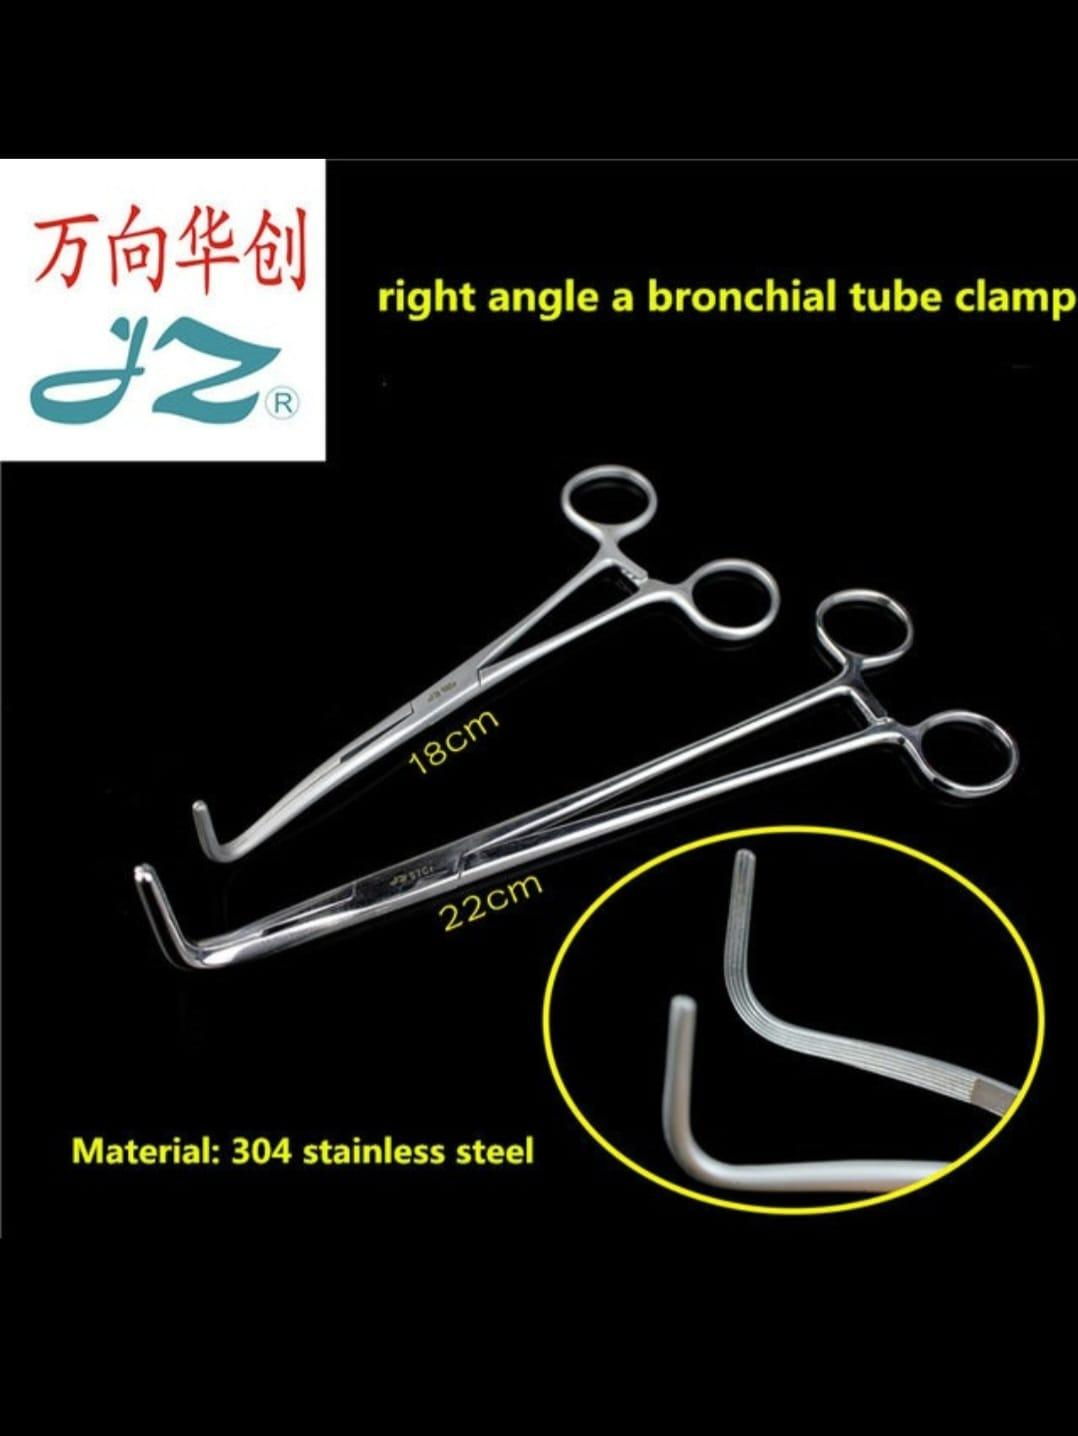Rectangle Cholecystectomy Forceps: (128, 572, 1030, 978), (162, 450, 794, 858)
